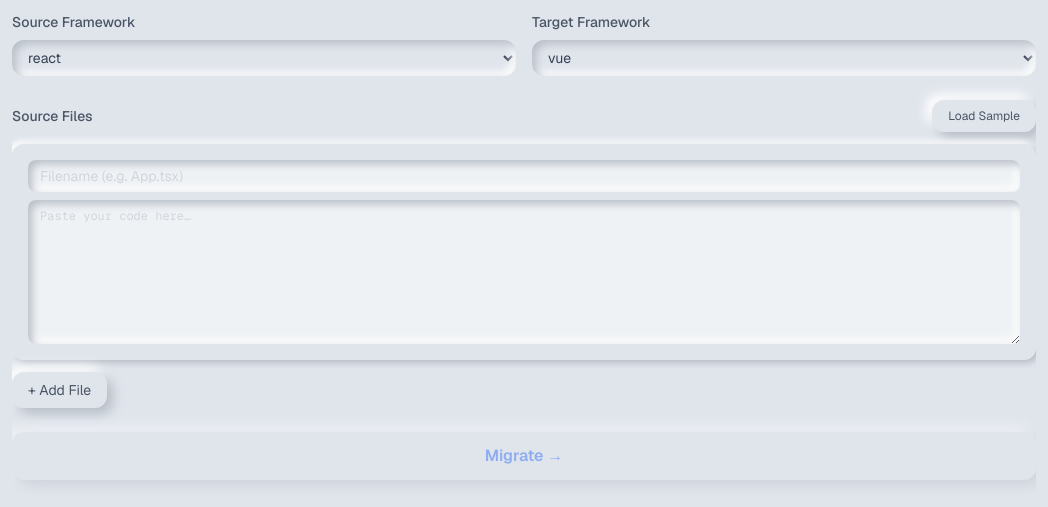
Test: MigrationForm › loads a sample preset when the sample button is clicked
Step 1. Click the button "Load Sample" → click(984, 116), box [932, 100, 1036, 132]
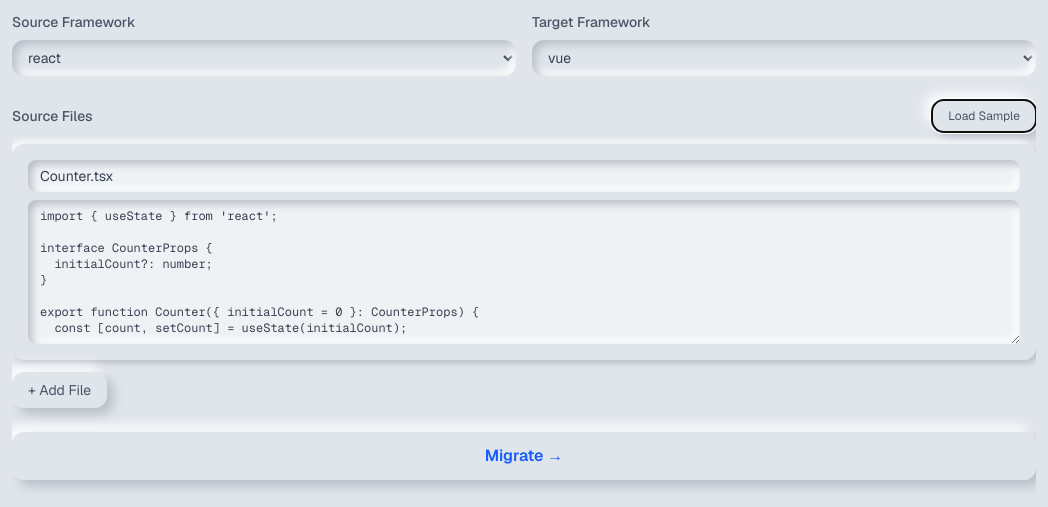
expect the field with placeholder "Filename (e.g. App.tsx)" is not empty: met, box [28, 160, 1020, 192]
